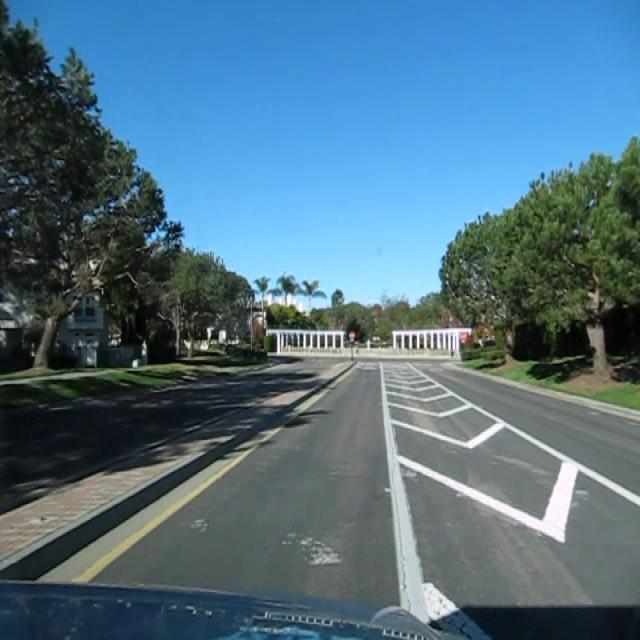stop: (458, 329, 467, 342), (348, 331, 355, 338)
